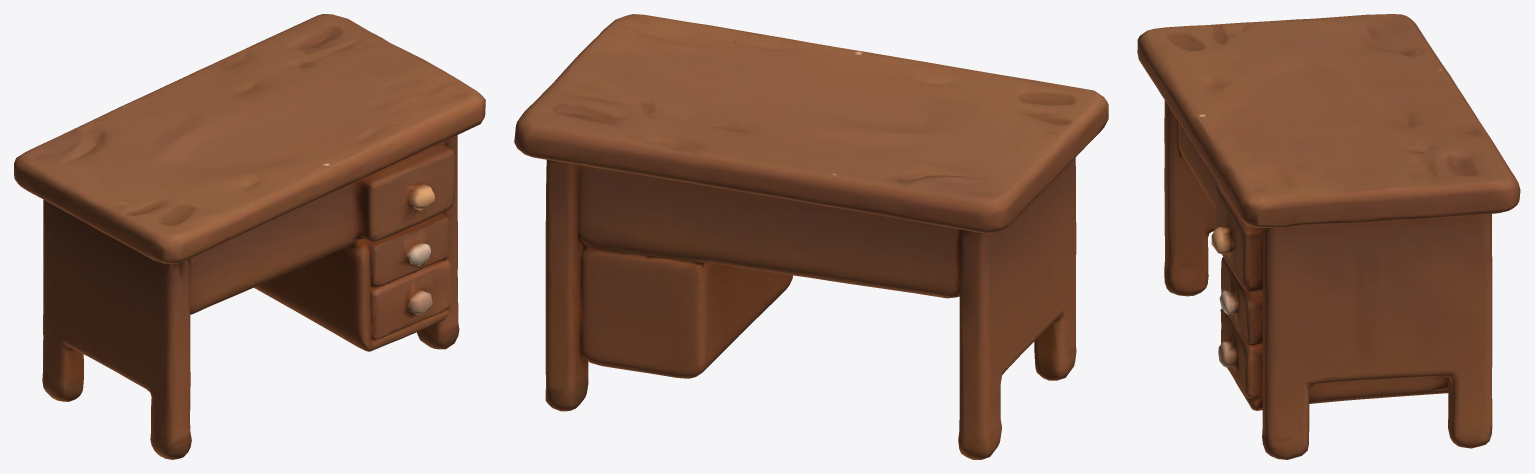
File: school-teacher-desk.glb
3 views of the same model, side by side, from view 1: azimuth 30°, elevation 25°; view 2: azimuth 150°, elevation 25°; view 3: azimuth 270°, elevation 25° (orthographic). The views are drawn at different scales.
Visible parts, largest first — view 1: tripo_node_07854b8e-bd3c-4401-b8f5-cf2d6a7edbaa; view 2: tripo_node_07854b8e-bd3c-4401-b8f5-cf2d6a7edbaa; view 3: tripo_node_07854b8e-bd3c-4401-b8f5-cf2d6a7edbaa.
Part boxes in pixels (x1,y1,x2,y2): tripo_node_07854b8e-bd3c-4401-b8f5-cf2d6a7edbaa: (14, 14, 485, 459); tripo_node_07854b8e-bd3c-4401-b8f5-cf2d6a7edbaa: (514, 14, 1108, 459); tripo_node_07854b8e-bd3c-4401-b8f5-cf2d6a7edbaa: (1137, 14, 1520, 459).
Bounding box in the file's own units: 1 × 0.6121 × 0.7683.
1 material, 1 textured.
